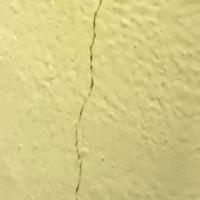crack: (62, 2, 118, 188)
